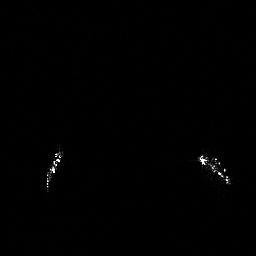ship: (195, 153, 234, 187), (45, 149, 65, 193)
